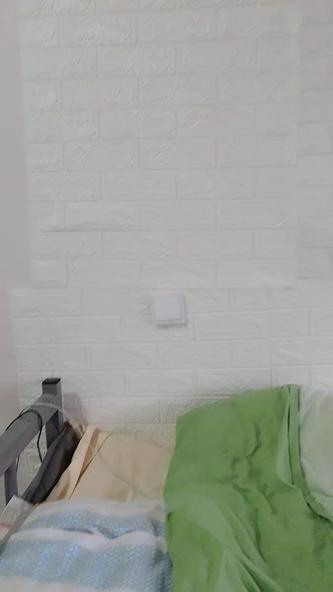switch: (157, 298, 185, 326)
